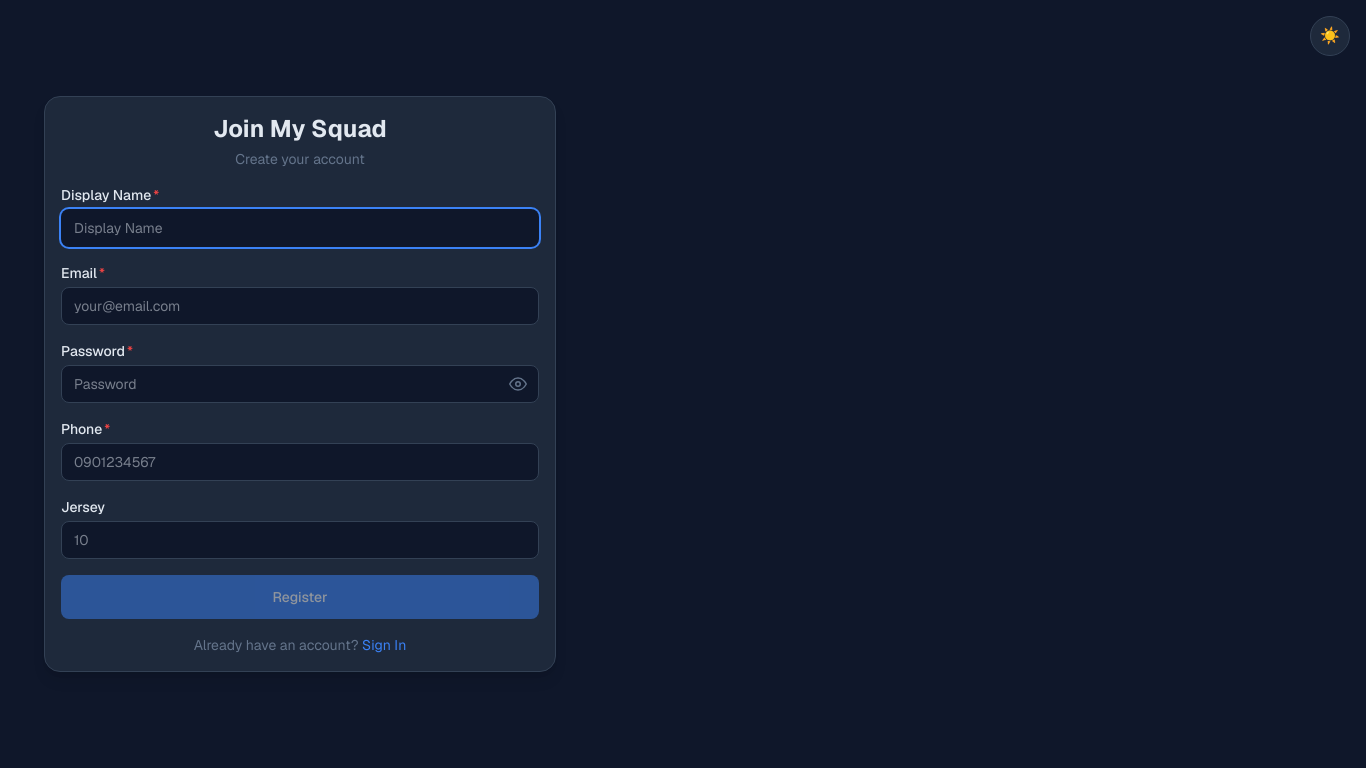
Scenario: RegisterPage › password validation › should show error when password has no uppercase letter
Type "abcdef1" into the password field labelled "Password".
click(300, 384); type("abcdef1")  # box 61,365 -> 539,403
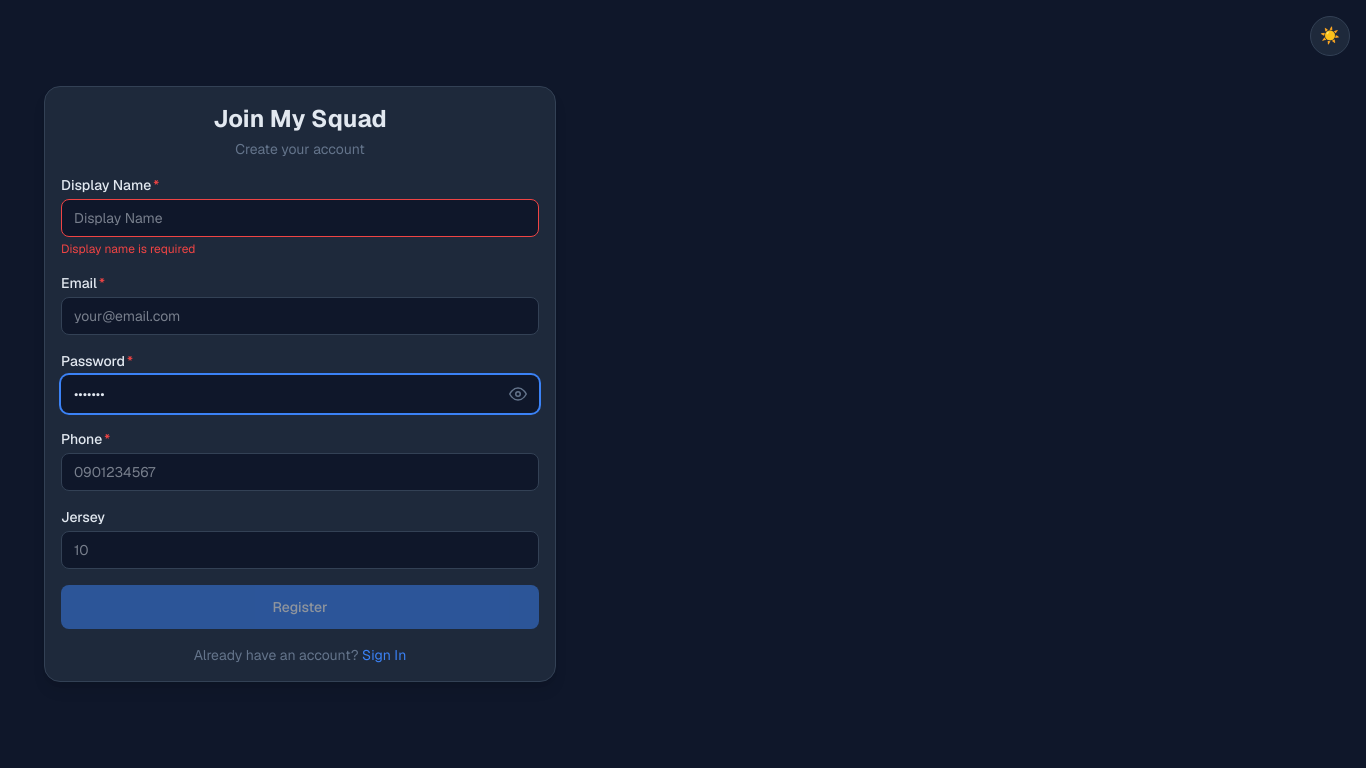
Press Tab
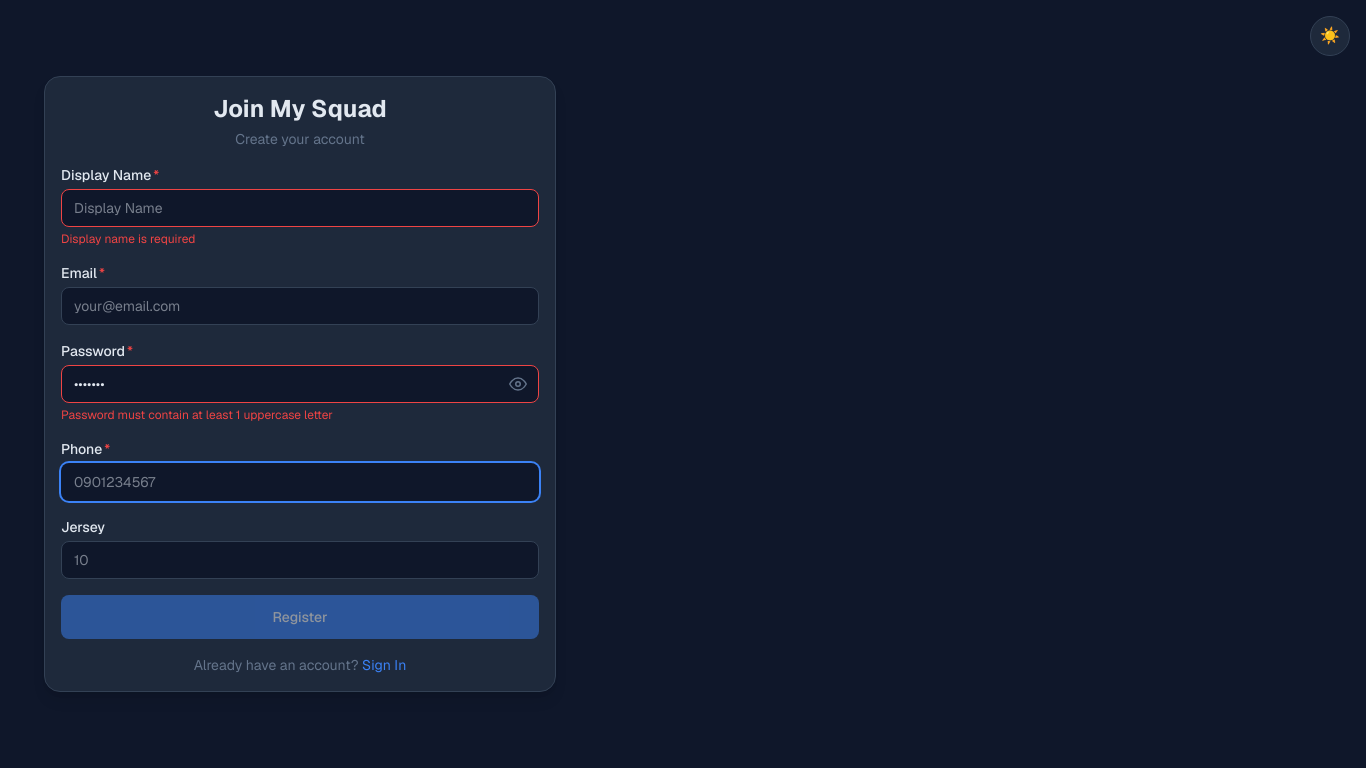
Now the list item "Password must contain at least 1 uppercase letter" is shown, box 61,407 -> 333,423
